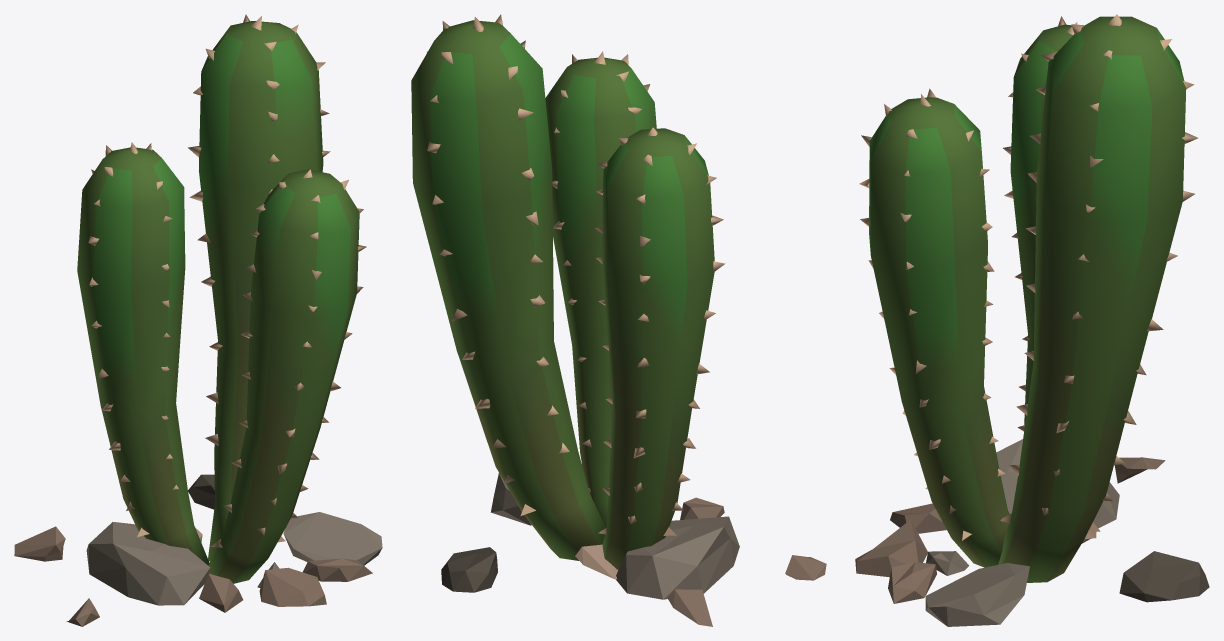
Rendered from cactus_5.glb.
3 views of the same model, side by side, from view 1: azimuth 30°, elevation 25°; view 2: azimuth 150°, elevation 25°; view 3: azimuth 270°, elevation 25° (orthographic). The views are drawn at different scales.
Parts seen in each view (by area): view 1: Cactus 5; view 2: Cactus 5; view 3: Cactus 5.
Boxes of the visible parts, box(x1,y1,x2,y2) form: Cactus 5: box(14, 14, 382, 626); Cactus 5: box(411, 14, 826, 626); Cactus 5: box(855, 14, 1209, 626).
Size of the model in its own units: 2.84 by 4.33 by 2.35.
Materials: 1 (1 with a texture image).
